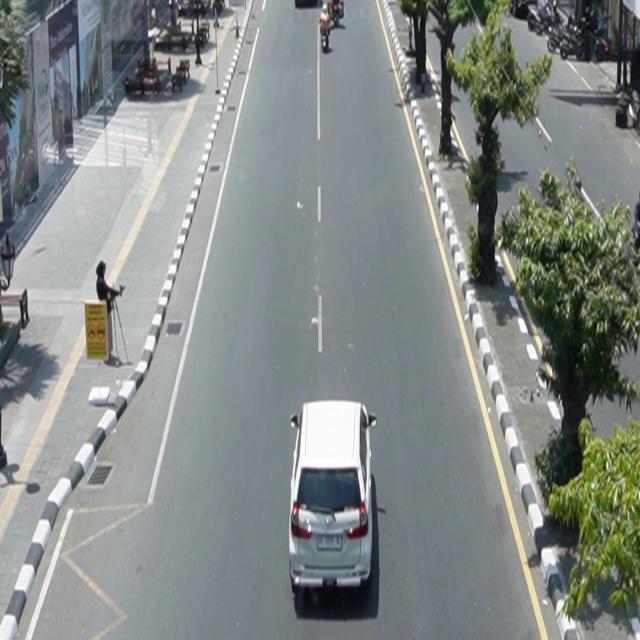car: (289, 399, 378, 599)
